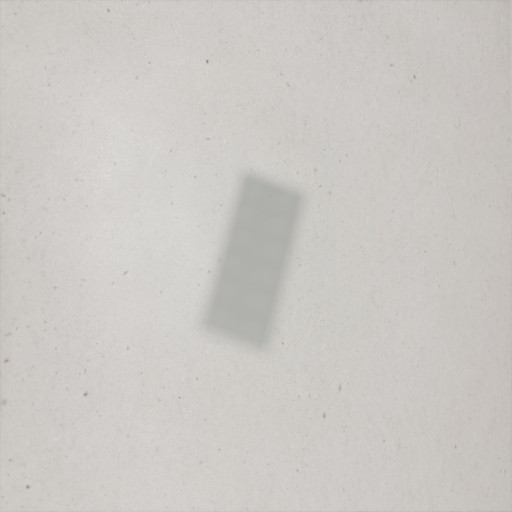lego: (197, 168, 308, 355)
